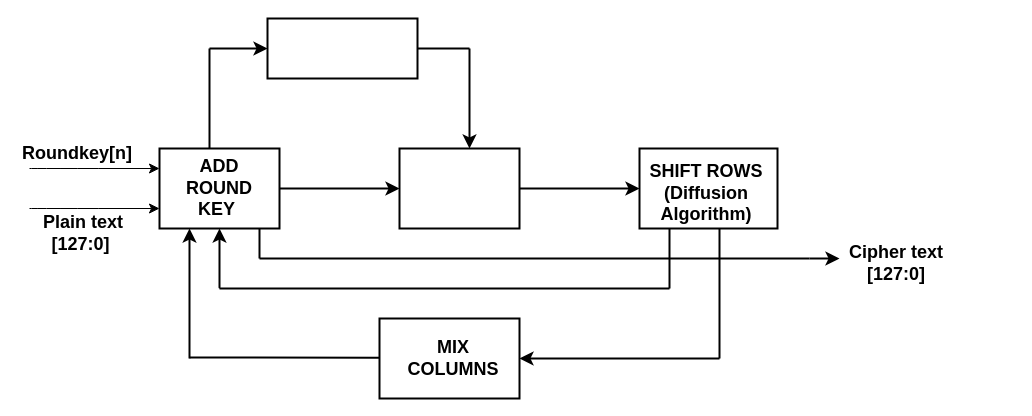
Image size: 1032x416. Some labels were removed from this diagram. Here are the shapes that lost their labels. From the top down, the box of each, then its label:
(266, 17, 418, 79): COMPARATOR (n>9)
(398, 147, 520, 229): S-BOX
